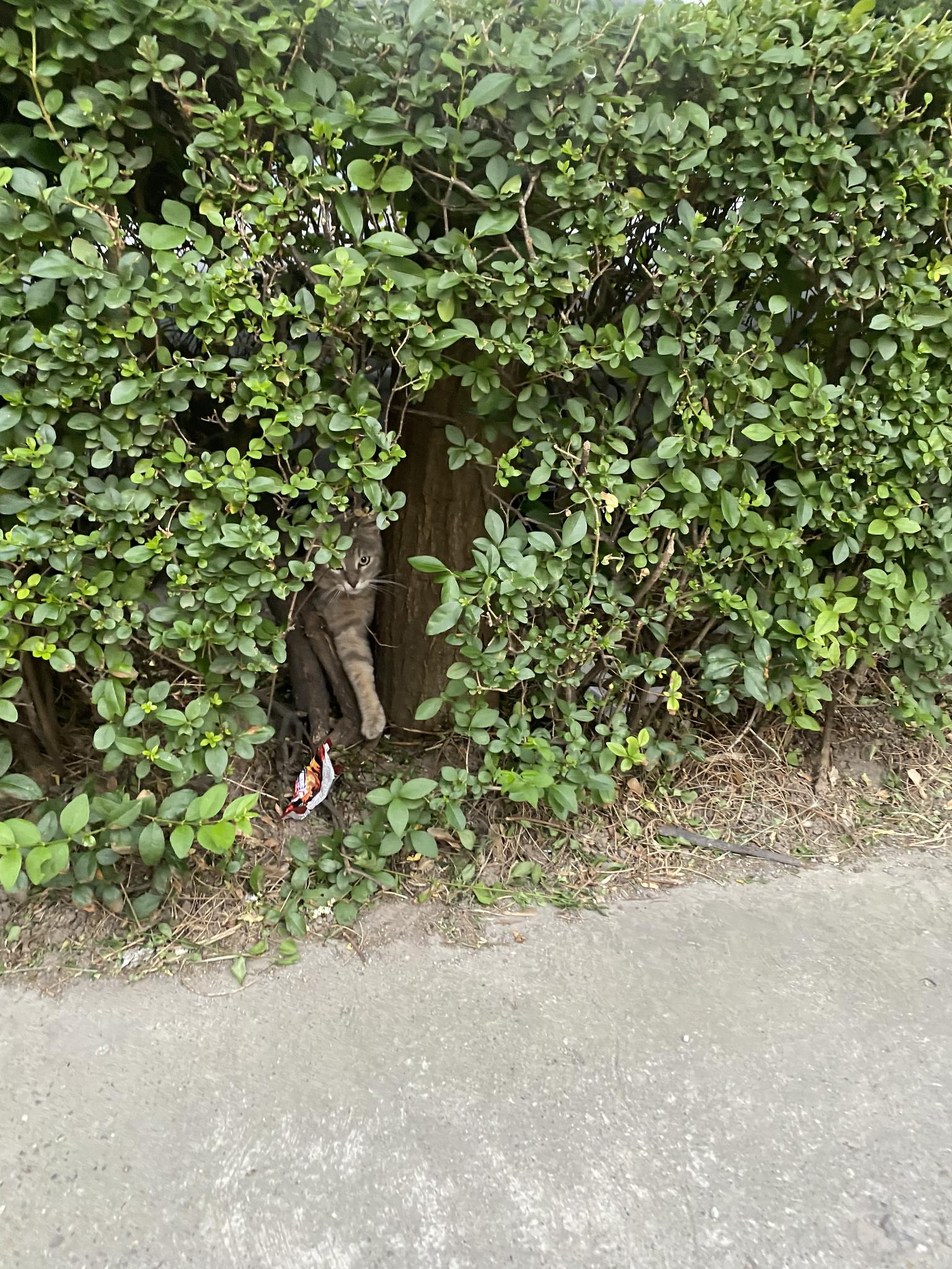macka: (312, 514, 387, 741)
